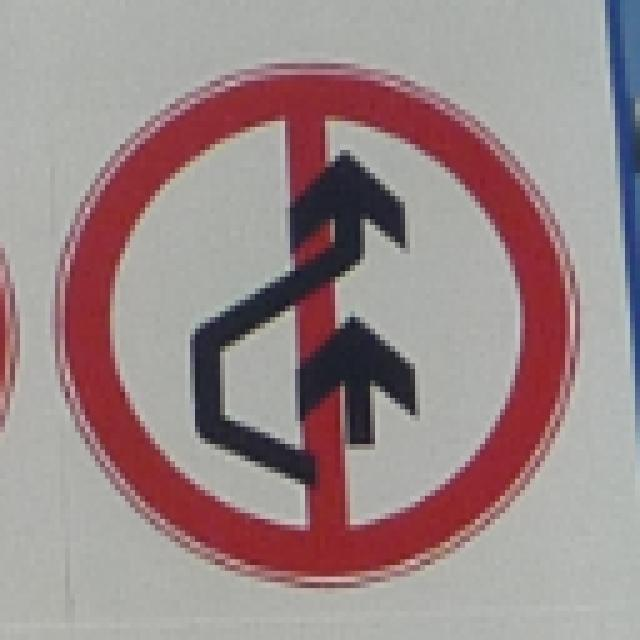Not that Direction: (65, 58, 579, 589)
